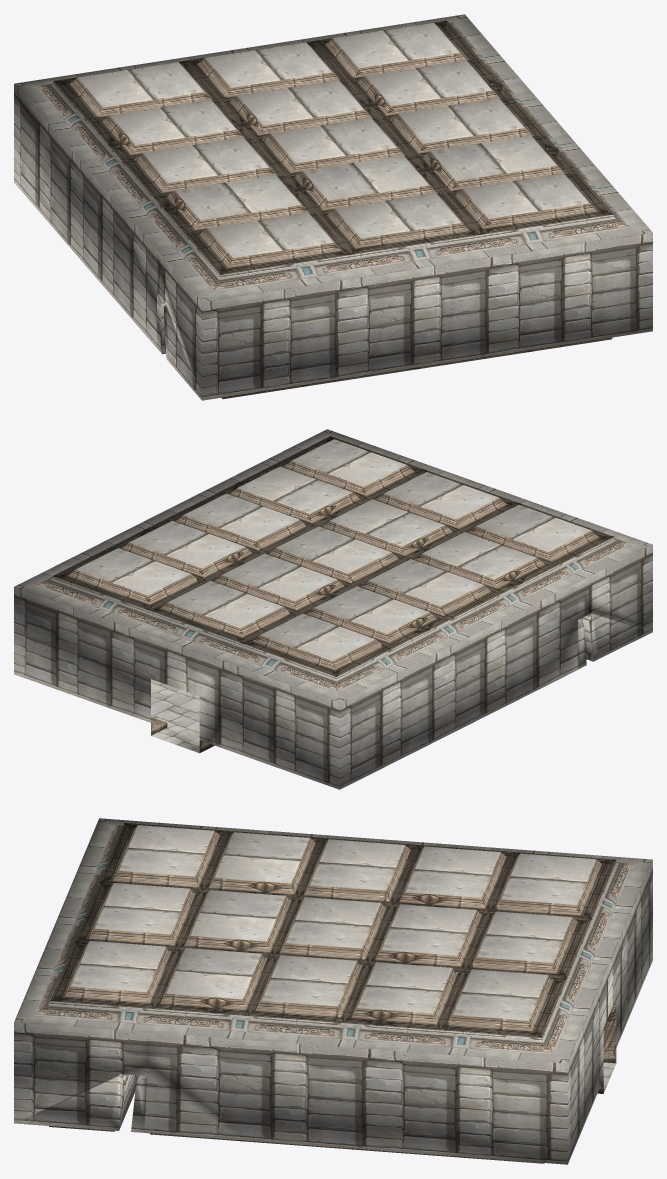
File: stormwind_081.fbx
3 renders of one model, top to bottom at view 1: azimuth 30°, elevation 25°; view 2: azimuth 150°, elevation 25°; view 3: azimuth 270°, elevation 25°, orthographic. The views are drawn at different scales.
Parts seen in each view (by area): view 1: stormwind_081_60, stormwind_081_40, stormwind_081_61, stormwind_081_62; view 2: stormwind_081_60, stormwind_081_40, stormwind_081_61, stormwind_081_62, stormwind_081_52; view 3: stormwind_081_60, stormwind_081_40, stormwind_081_61, stormwind_081_62.
Part boxes in pixels (x1,y1,x2,y2): stormwind_081_60: [14, 14, 652, 400]; stormwind_081_40: [77, 22, 589, 305]; stormwind_081_61: [53, 20, 613, 398]; stormwind_081_62: [37, 21, 630, 292]; stormwind_081_60: [14, 429, 652, 789]; stormwind_081_40: [75, 439, 593, 660]; stormwind_081_61: [52, 436, 614, 752]; stormwind_081_62: [36, 445, 630, 693]; stormwind_081_52: [151, 679, 199, 752]; stormwind_081_60: [14, 818, 652, 1164]; stormwind_081_40: [70, 825, 596, 1080]; stormwind_081_61: [49, 823, 616, 1163]; stormwind_081_62: [34, 824, 632, 1054].
Bounding box in the file's own units: 39.98 × 10.19 × 43.97.
